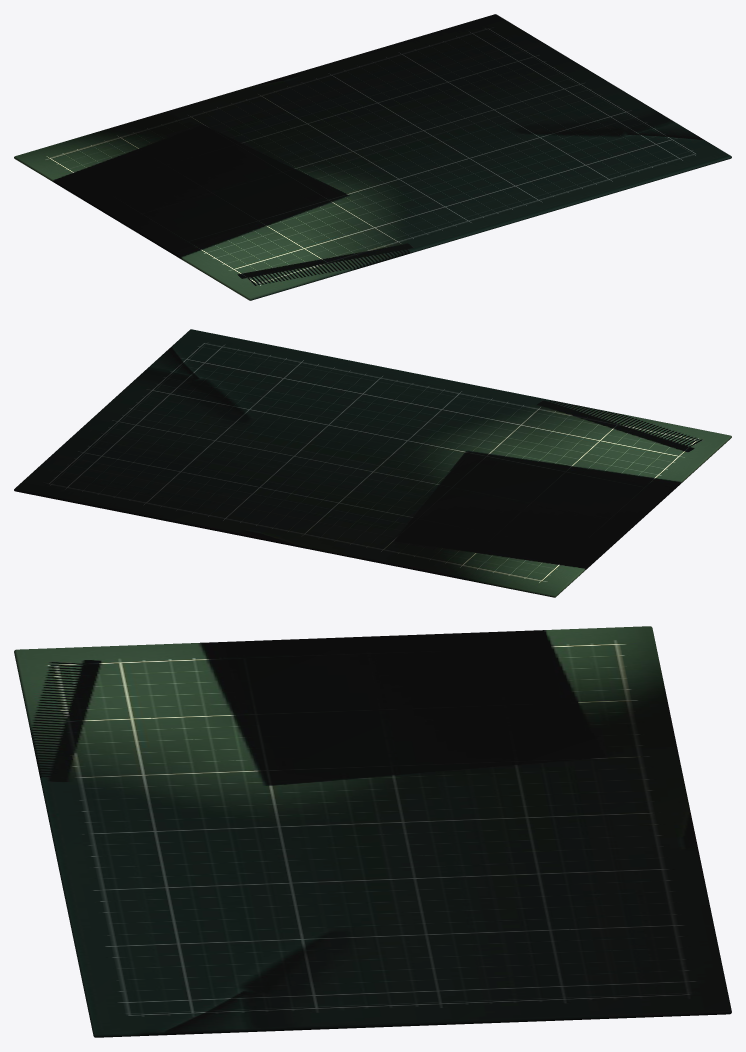
3 renders of one model, top to bottom at view 1: azimuth 30°, elevation 25°; view 2: azimuth 150°, elevation 25°; view 3: azimuth 270°, elevation 25°, orthographic. The views are drawn at different scales.
Visible parts, largest first — view 1: mat; view 2: mat; view 3: mat.
Part boxes in pixels (x1,y1,x2,y2): mat: [14, 14, 731, 300]; mat: [14, 329, 731, 597]; mat: [14, 626, 731, 1037].
Size of the model in its own units: 0.6341 by 0.003 by 0.4704.
1 material, 1 textured.
